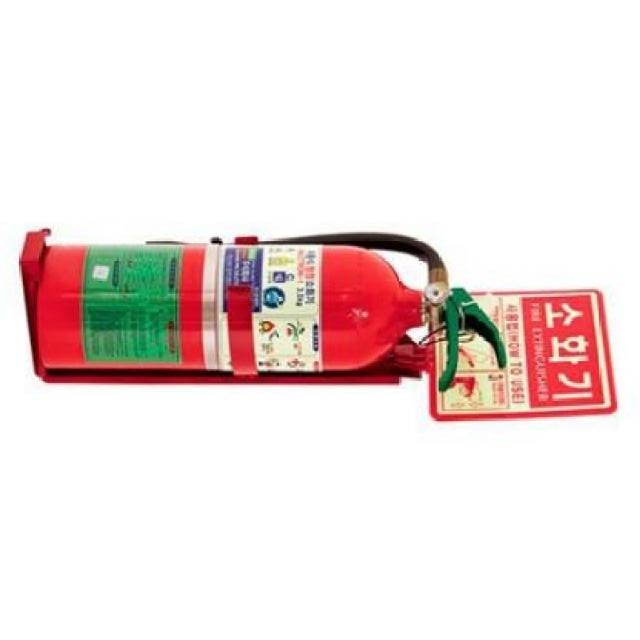fire extinguisher: (37, 231, 508, 392)
